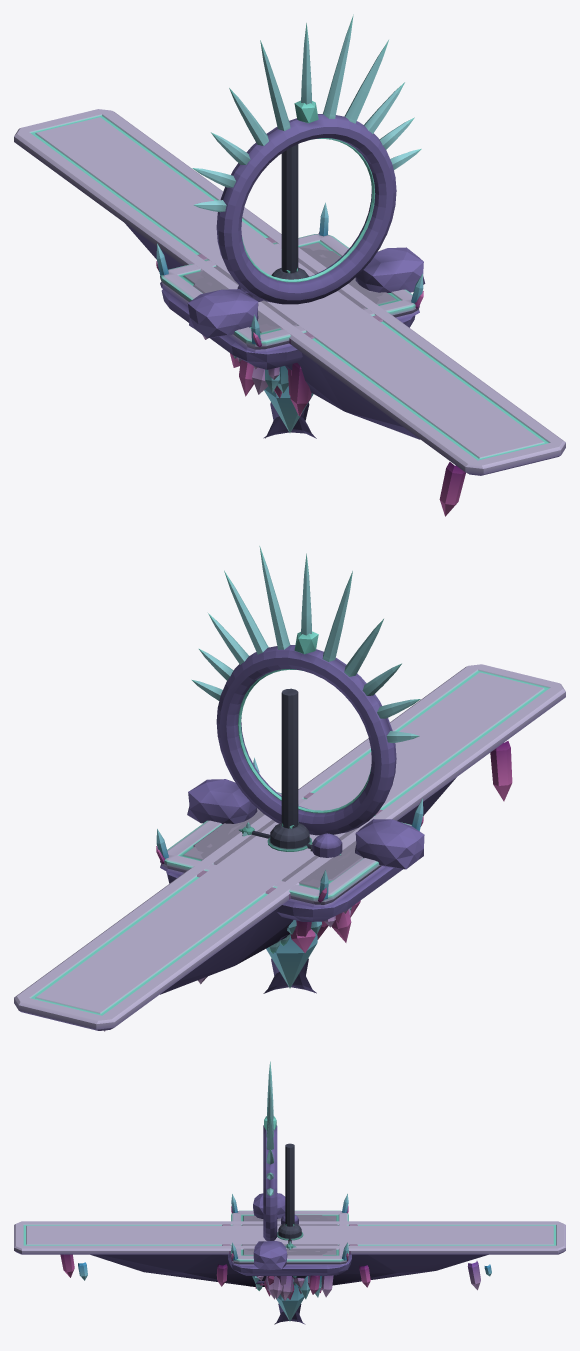
Rendered from caverns-1-9wyeWnBr.glb.
3 views of the same model, one above another, from view 1: azimuth 30°, elevation 25°; view 2: azimuth 150°, elevation 25°; view 3: azimuth 270°, elevation 25° (orthographic). The views are drawn at different scales.
Visible parts, largest first — view 1: block_7x2x56#0, portal_#0, pad_12x2x12#0, press_2.5x6x7.5#0, disc_10x1.5#0, block_7x2x14_ice#0, support_0_round#0; view 2: block_7x2x56#0, portal_#0, pad_12x2x12#0, disc_10x1.5#0, press_2.5x6x7.5#0, barHub_7.2x1.2#0, boltPost_#0, block_10x2x8#0, support_0_round#0; view 3: block_7x2x56#0, portal_#0, pad_12x2x12#0, disc_10x1.5#0, press_2.5x6x7.5#0, block_8x2x10#0, block_10x2x8#0, barHub_7.2x1.2#0.
Boxes of the visible parts, box(x1,y1,x2,y2) form: block_7x2x56#0: box(14, 109, 565, 516); portal_#0: box(187, 14, 425, 338); pad_12x2x12#0: box(156, 202, 423, 392); press_2.5x6x7.5#0: box(281, 144, 298, 273); disc_10x1.5#0: box(210, 256, 367, 432); block_7x2x14_ice#0: box(197, 237, 382, 416); support_0_round#0: box(263, 402, 316, 438); block_7x2x56#0: box(14, 664, 565, 1031); portal_#0: box(187, 546, 424, 869); pad_12x2x12#0: box(156, 757, 423, 936); disc_10x1.5#0: box(210, 812, 360, 988); press_2.5x6x7.5#0: box(268, 688, 298, 953); barHub_7.2x1.2#0: box(251, 822, 312, 851); boltPost_#0: box(310, 833, 342, 857); block_10x2x8#0: box(193, 808, 363, 927); support_0_round#0: box(263, 958, 316, 993); block_7x2x56#0: box(14, 1221, 565, 1290); portal_#0: box(253, 1061, 287, 1269); pad_12x2x12#0: box(228, 1194, 351, 1281); disc_10x1.5#0: box(249, 1216, 330, 1321); press_2.5x6x7.5#0: box(254, 1143, 321, 1290); block_8x2x10#0: box(241, 1219, 338, 1297); block_10x2x8#0: box(252, 1215, 327, 1299); barHub_7.2x1.2#0: box(277, 1223, 303, 1242).
Size of the model in its own units: 16.02 by 29.02 by 56.
